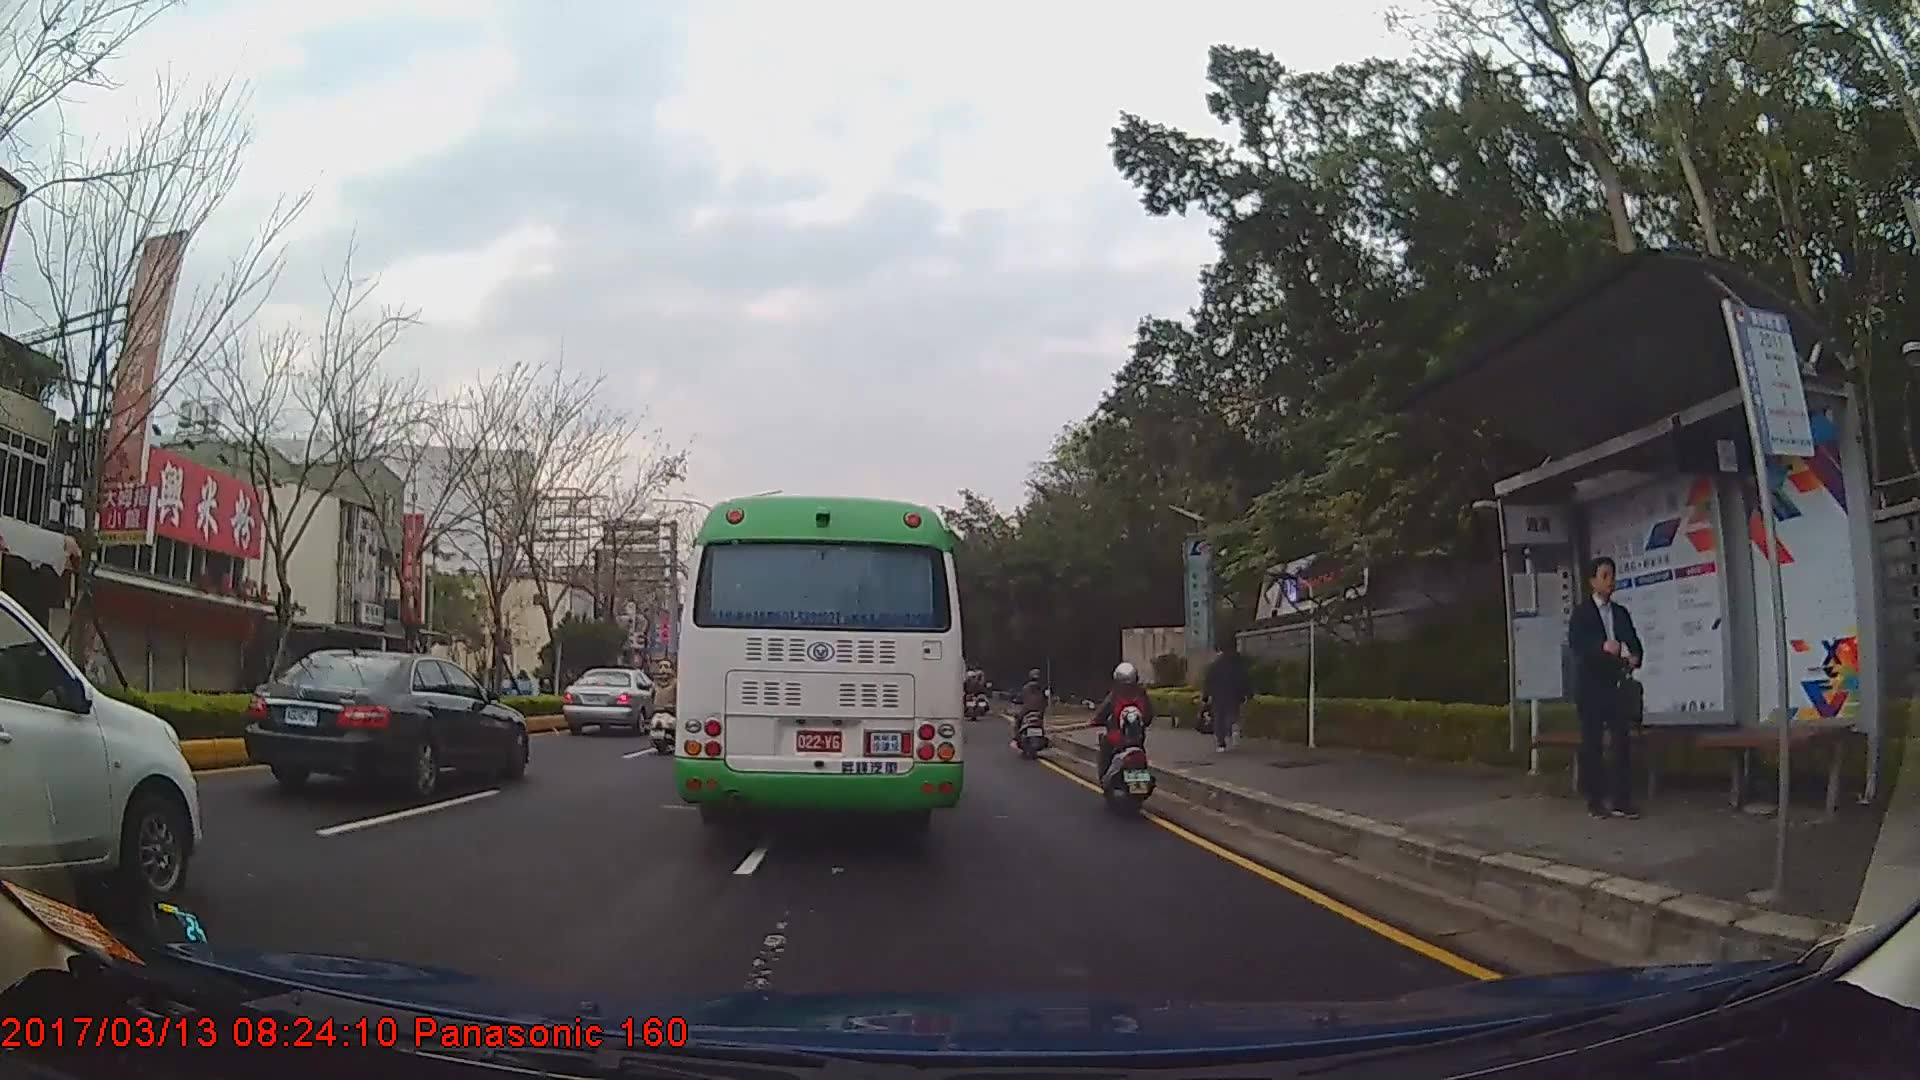pedestrian: (1569, 561, 1646, 825), (1198, 639, 1255, 762)
rider: (1092, 661, 1156, 820), (1012, 667, 1053, 761), (650, 661, 681, 757), (962, 672, 982, 713)
vehicle: (673, 500, 962, 842), (0, 580, 201, 904), (243, 647, 530, 802), (563, 666, 661, 739)
